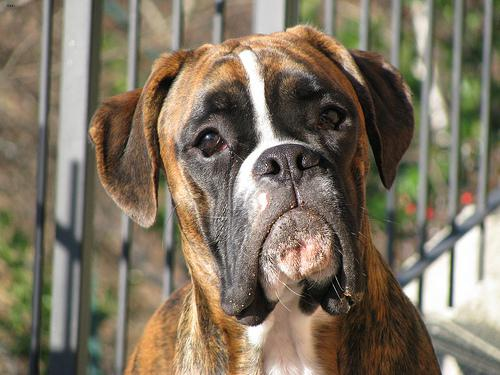dog-boxer: (89, 23, 413, 325)
